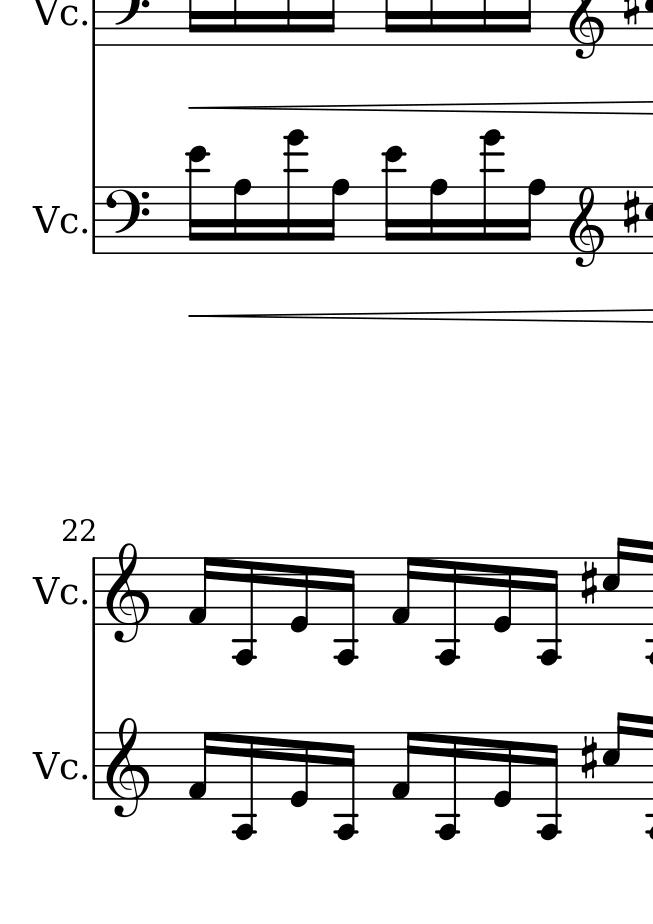16_-4: (330, 731, 364, 841), (331, 555, 362, 665), (434, 730, 464, 843), (534, 730, 562, 843), (232, 556, 260, 668), (534, 555, 562, 667), (231, 731, 259, 843), (434, 555, 461, 669)
16_0: (490, 556, 515, 634), (287, 556, 309, 634), (289, 731, 310, 811), (494, 731, 515, 808)
16_1: (186, 731, 217, 802), (391, 731, 421, 803), (188, 556, 218, 627), (391, 556, 419, 626)
16_12: (380, 144, 406, 258), (186, 145, 211, 254)
16_14: (478, 128, 506, 257), (285, 127, 309, 255)
16_5: (600, 536, 631, 625), (600, 711, 630, 801)
16_8: (519, 178, 548, 257), (325, 178, 349, 257), (232, 177, 254, 257), (428, 178, 449, 257)
2: (89, 731, 103, 799), (61, 515, 79, 544), (80, 516, 97, 543)
Crescendo_hairpin: (187, 306, 653, 325), (188, 99, 653, 116)
Fclef: (105, 187, 153, 256)
Gclef: (106, 717, 152, 820), (106, 543, 152, 644), (570, 185, 606, 270)
Sharp: (577, 731, 599, 783), (579, 555, 599, 608), (622, 186, 643, 234)
Single_barline: (86, 557, 106, 625), (88, 186, 106, 254)
